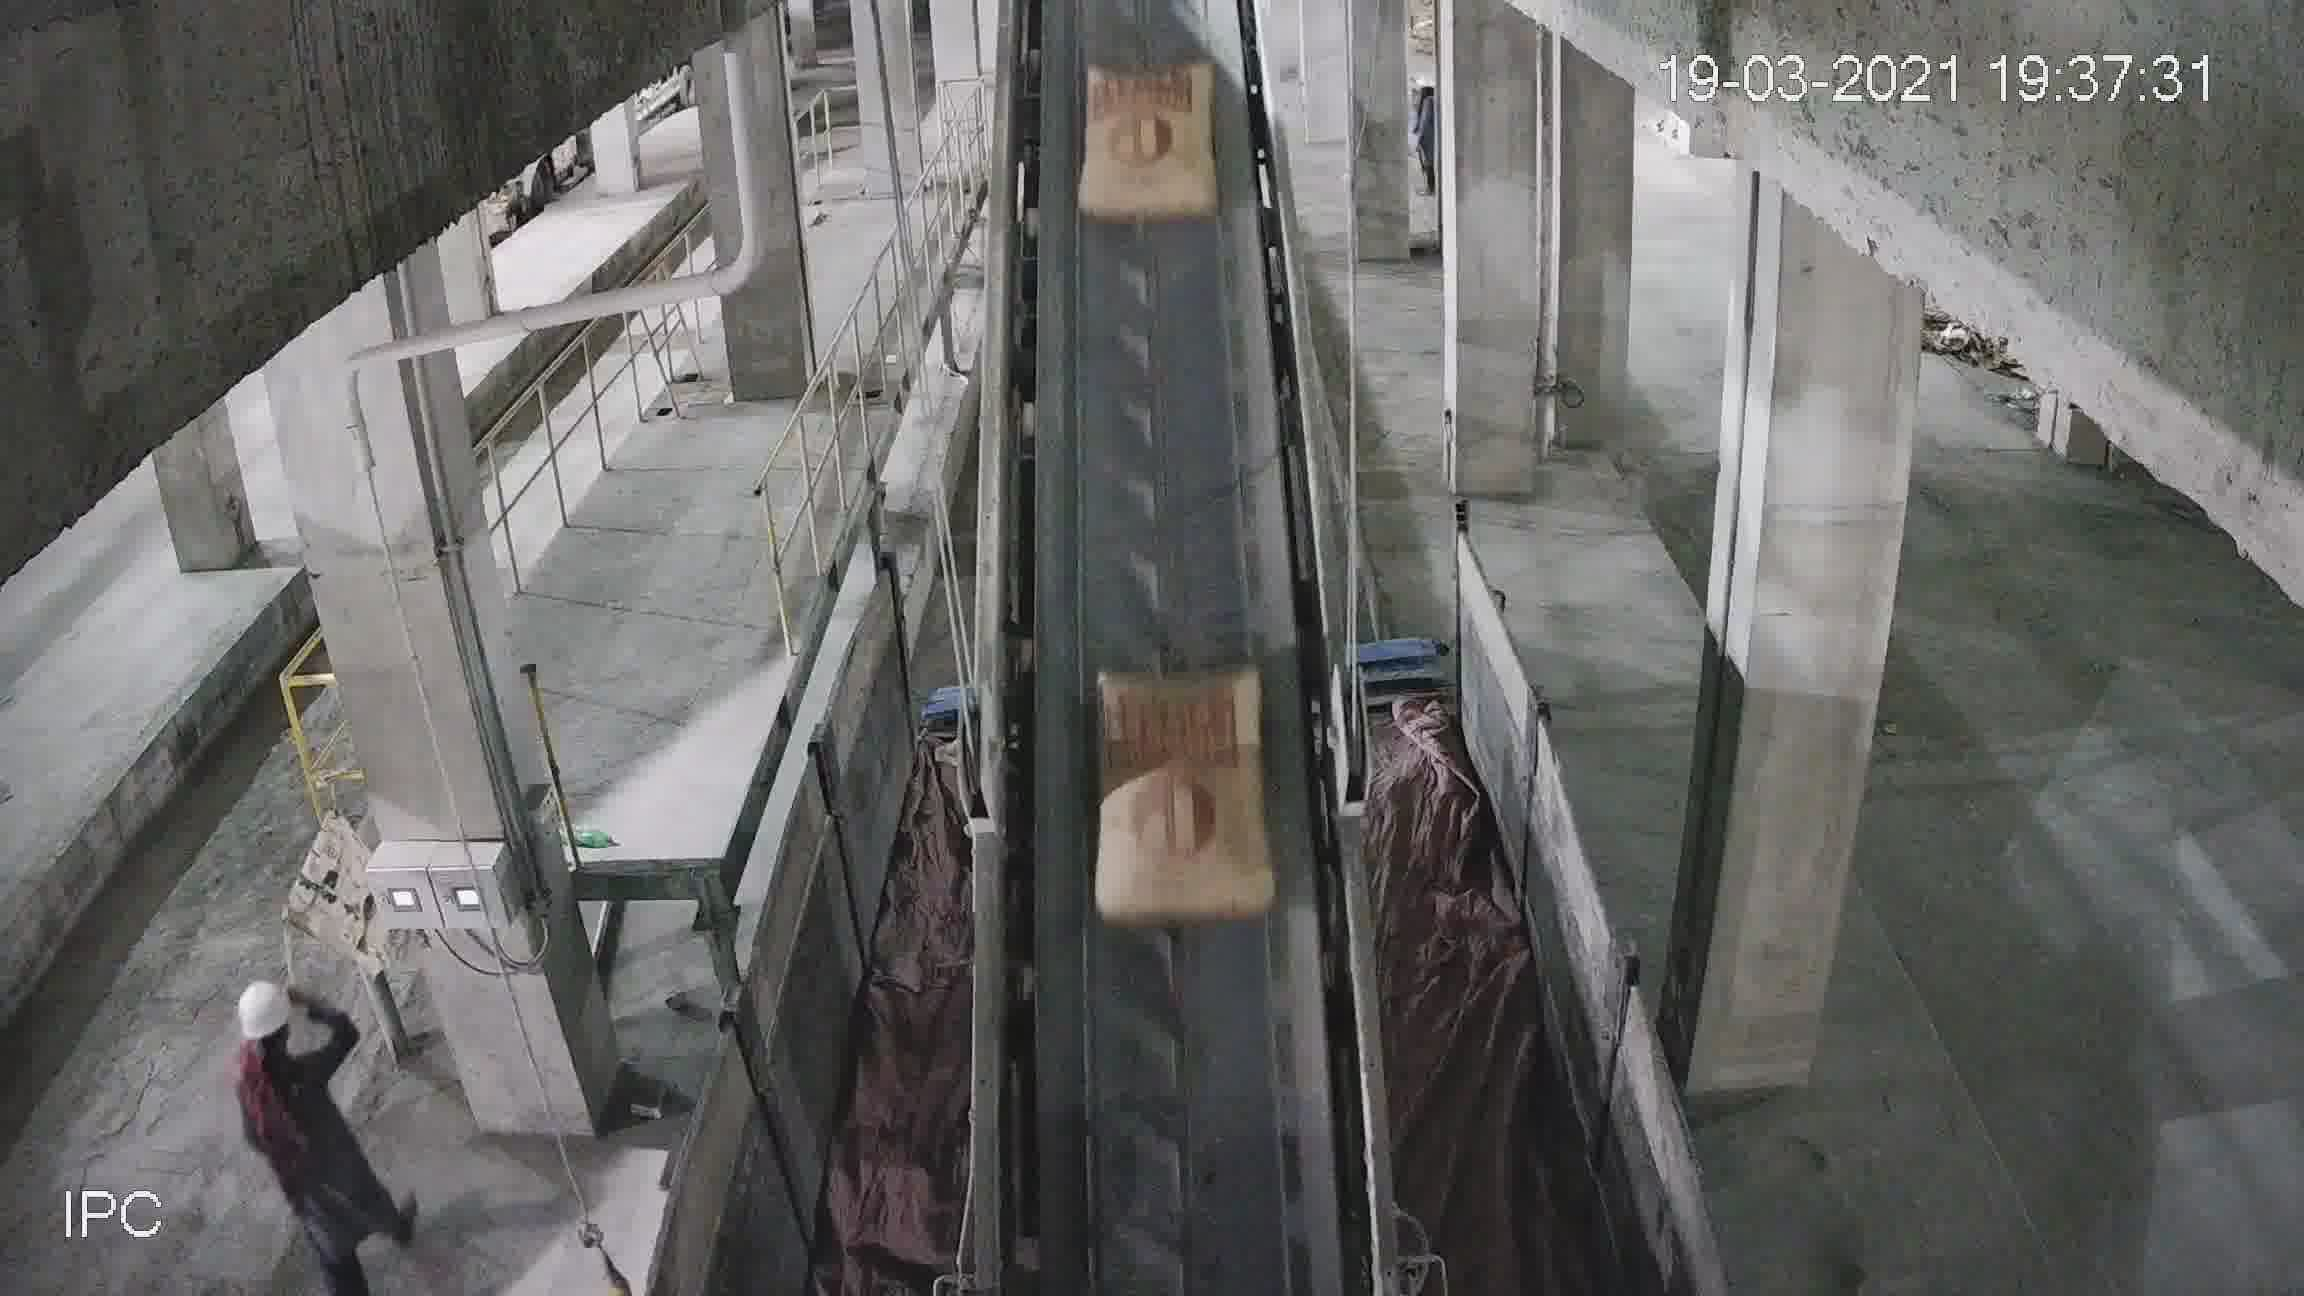bag: (1100, 676, 1277, 929), (1084, 70, 1214, 223)
belt: (975, 70, 1372, 1204)
